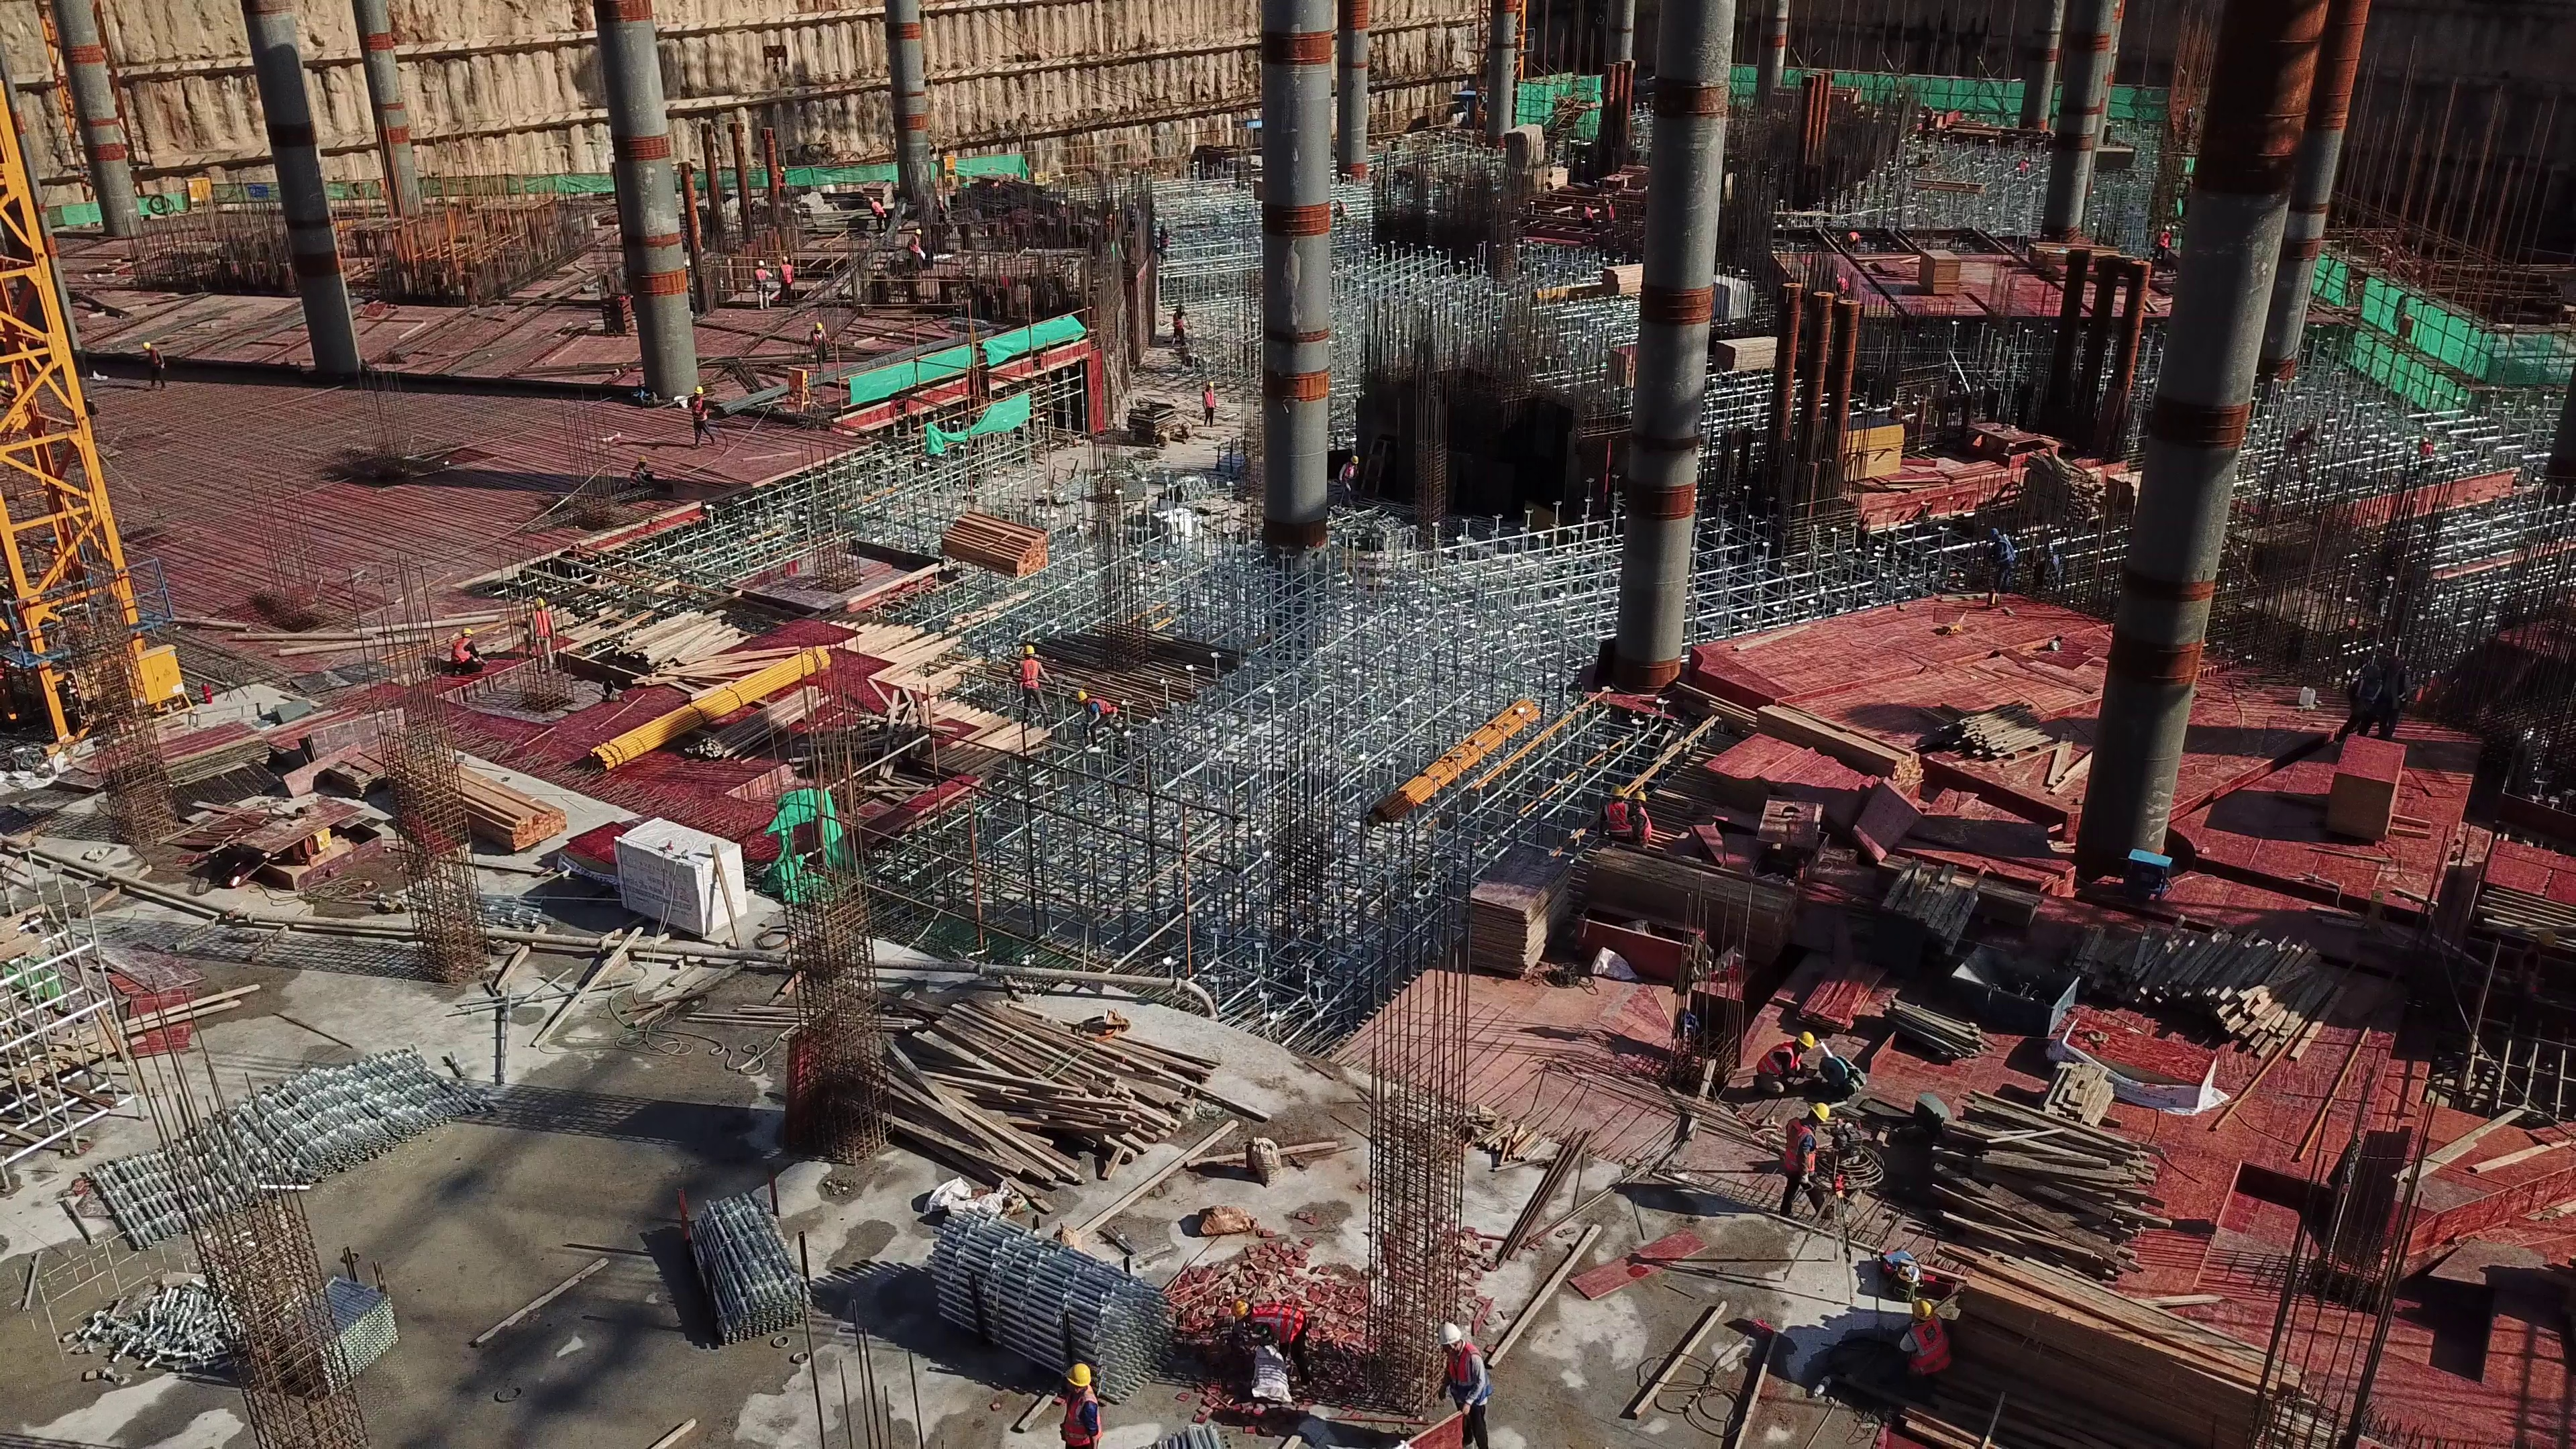board: (1468, 850, 1569, 977), (147, 714, 268, 777), (2339, 734, 2400, 862), (1821, 413, 1914, 486), (1913, 241, 1953, 292), (1616, 343, 1633, 388)
cutter: (1820, 1051, 1863, 1101)
ebox: (124, 643, 195, 708)
helmet: (1056, 1364, 1101, 1391), (1910, 1301, 1941, 1324), (1436, 1322, 1462, 1345), (1794, 1032, 1817, 1052), (1607, 779, 1631, 798), (1811, 1104, 1832, 1122), (1233, 1300, 1252, 1319), (1629, 788, 1648, 803), (455, 628, 473, 635), (1022, 645, 1033, 653)
person: (1433, 1318, 1490, 1449), (1230, 1298, 1307, 1383), (1755, 1028, 1820, 1103), (1900, 1300, 1951, 1379), (1780, 1104, 1817, 1213), (1054, 1362, 1100, 1449), (2341, 665, 2377, 740), (1016, 643, 1049, 722), (1075, 688, 1118, 745), (2383, 657, 2411, 742), (522, 597, 550, 671), (1599, 780, 1629, 844), (445, 627, 483, 677), (689, 386, 713, 447), (1631, 787, 1654, 853), (141, 343, 166, 392), (1335, 453, 1357, 507), (751, 260, 772, 311), (808, 323, 830, 367), (904, 227, 924, 275), (779, 256, 796, 302), (865, 197, 887, 233), (1170, 307, 1187, 351), (1201, 381, 1218, 427), (2153, 222, 2169, 260), (1156, 223, 1167, 265), (2417, 437, 2433, 461), (776, 166, 788, 201), (1919, 101, 1933, 128), (1843, 231, 1860, 251), (2017, 158, 2029, 178), (1335, 199, 1345, 219)
scaffold: (85, 1053, 476, 1261), (917, 1213, 1205, 1409), (112, 1268, 430, 1385), (653, 1192, 808, 1332)
vest: (1254, 1302, 1308, 1351), (1780, 1121, 1817, 1189), (1446, 1357, 1491, 1411), (1753, 1038, 1804, 1081), (1062, 1401, 1104, 1449), (1912, 1328, 1950, 1367), (1603, 805, 1629, 839), (1633, 809, 1655, 849), (1018, 662, 1041, 697), (445, 637, 470, 662)
wood: (895, 1000, 1220, 1183), (1961, 1263, 2269, 1449), (1935, 1086, 2140, 1242), (2131, 918, 2358, 1041), (372, 741, 554, 859), (1874, 857, 2000, 967), (1950, 710, 2097, 799), (932, 488, 1057, 579), (618, 612, 738, 681), (1715, 331, 1776, 376), (1601, 258, 1642, 301)
